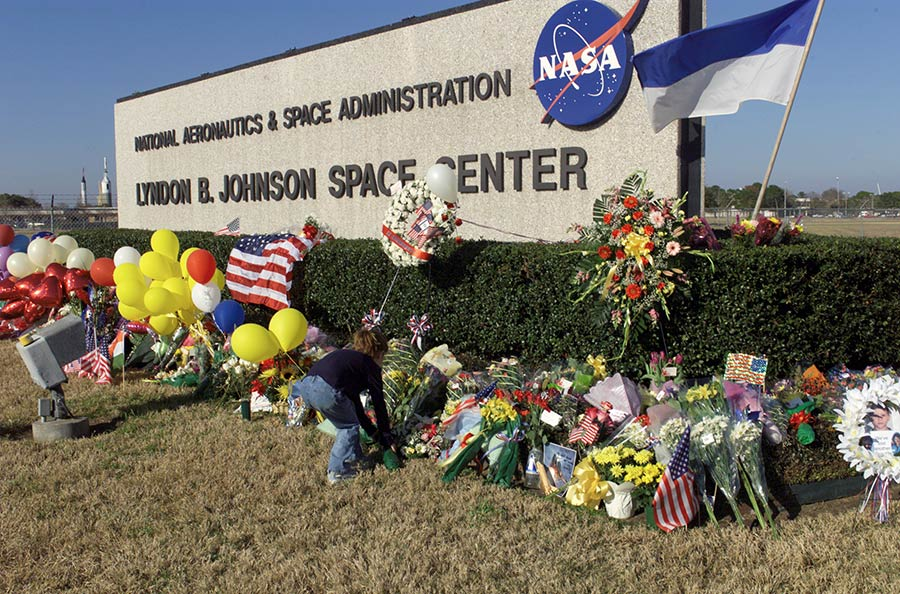NASA: (528, 1, 649, 134)
